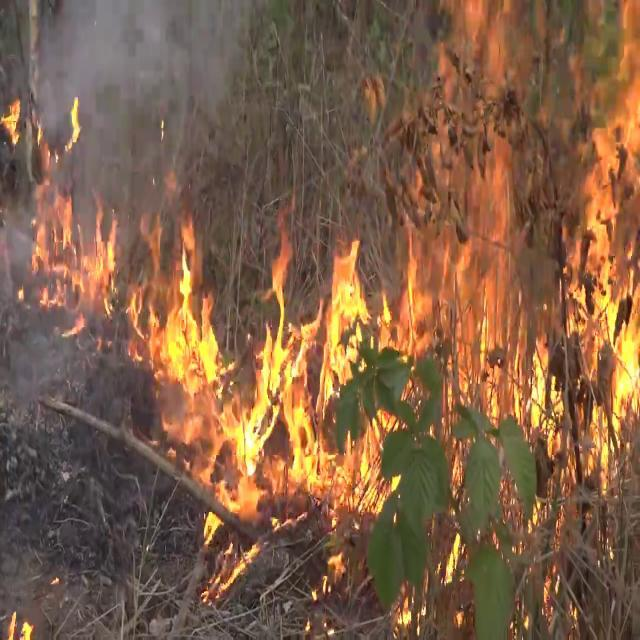Fire: (430, 29, 640, 564), (124, 210, 420, 551), (5, 86, 156, 382)
